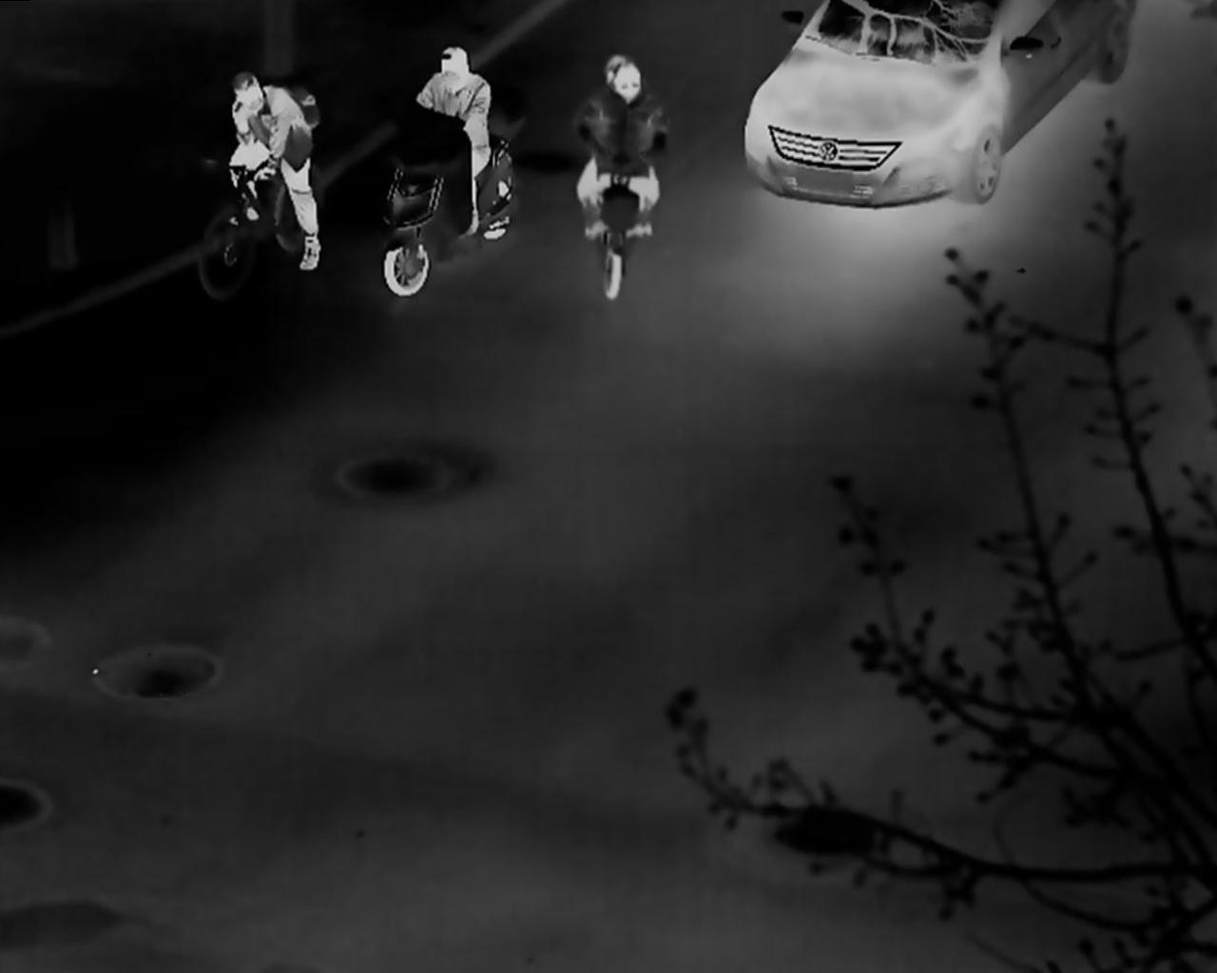person: (222, 72, 323, 275), (572, 52, 666, 245), (415, 44, 489, 236)
